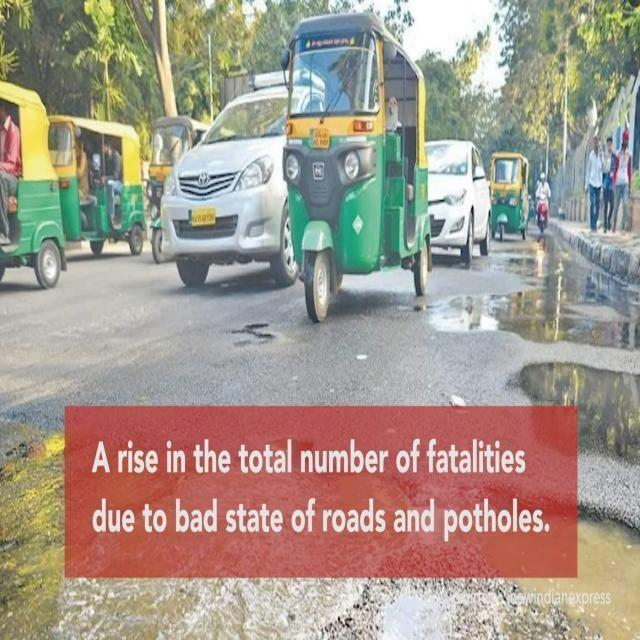Pothole: (478, 497, 640, 634), (522, 363, 636, 463), (0, 432, 59, 486), (229, 320, 269, 354)
